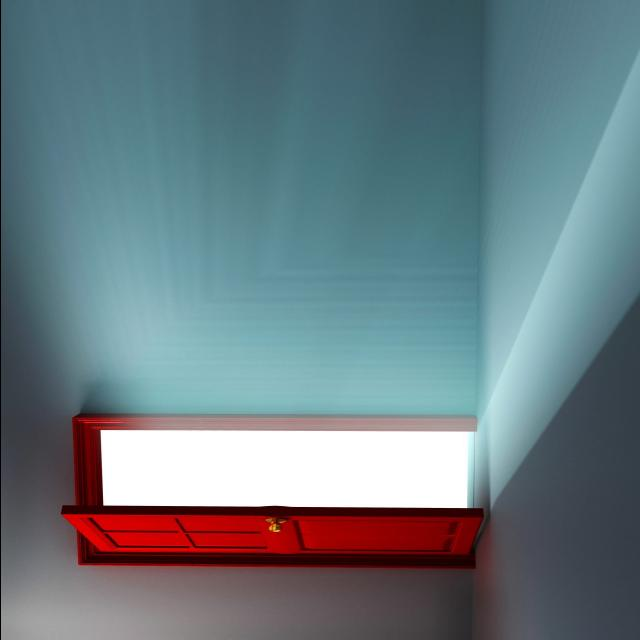open: (77, 418, 482, 569)
